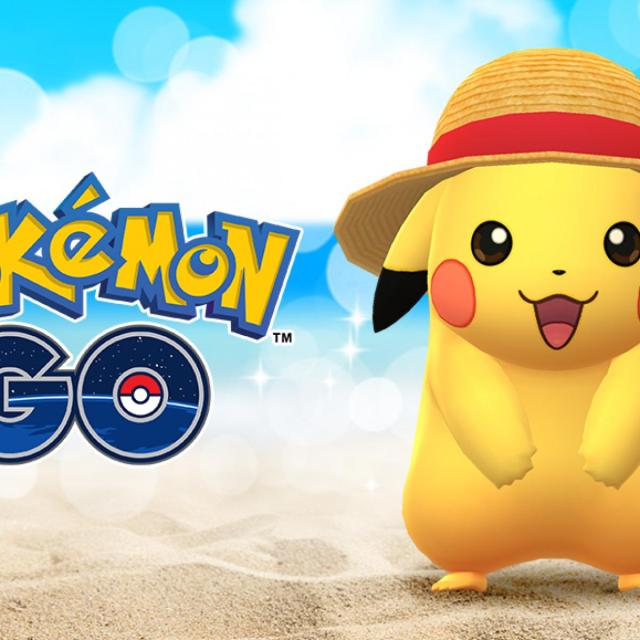pikachu: (371, 161, 640, 594)
